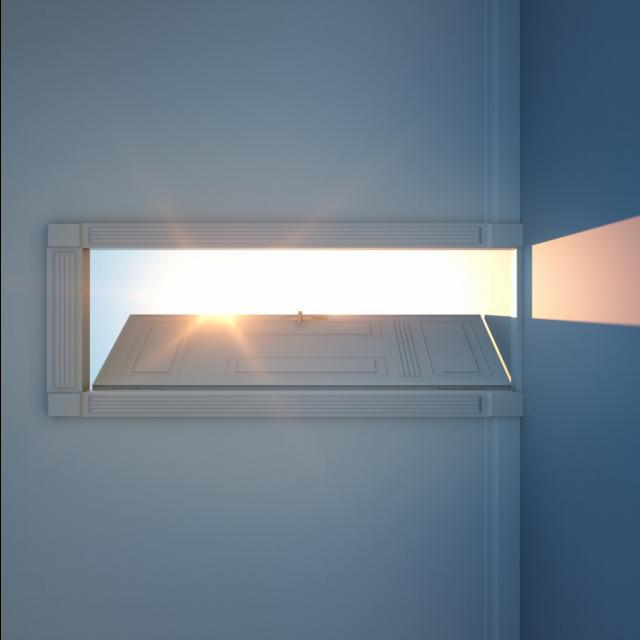open: (76, 239, 508, 391)
